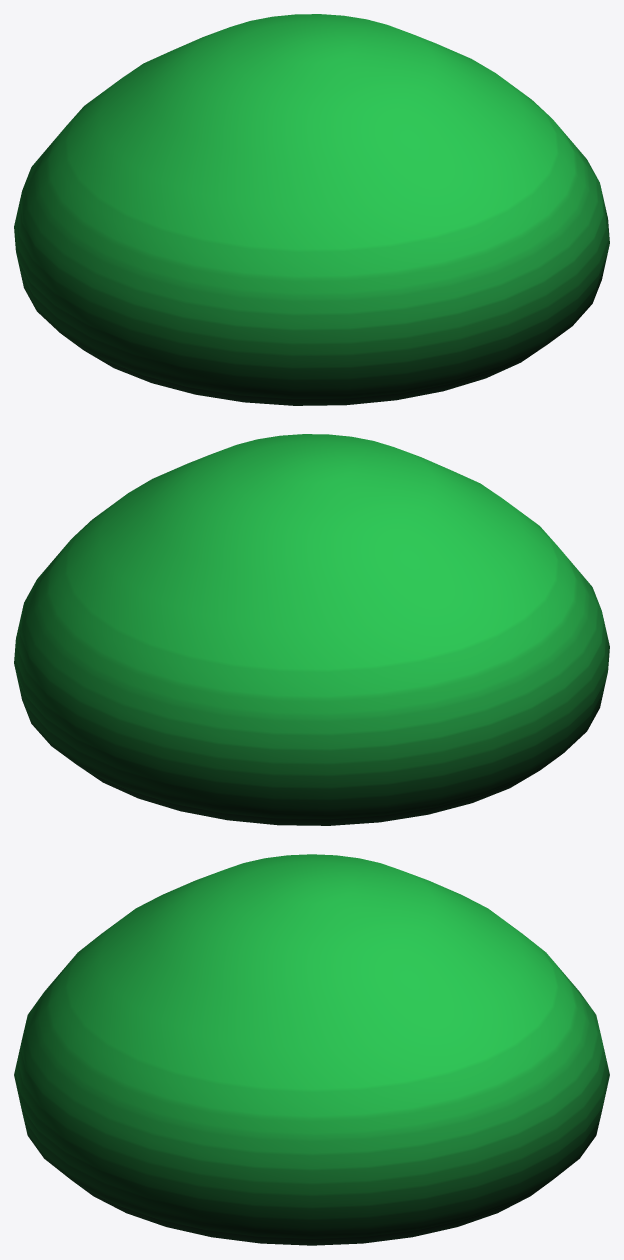
The model's file is gel_f9c89bf4.glb.
The picture shows the model from 3 angles, top to bottom: view 1: azimuth 30°, elevation 25°; view 2: azimuth 150°, elevation 25°; view 3: azimuth 270°, elevation 25°; orthographic projection.
Bounding box in the file's own units: 1.34 × 0.6463 × 1.34.
1 material, 1 textured.
